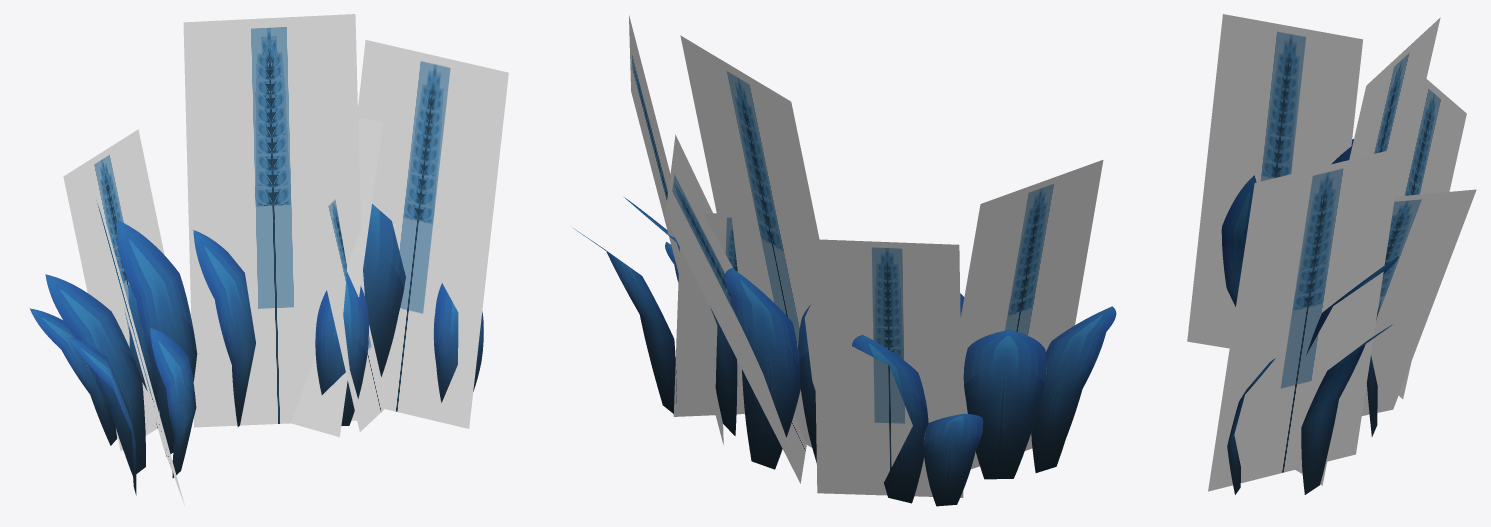
The model's file is Grass3.FBX.
The picture shows the model from 3 angles, left to right: view 1: azimuth 30°, elevation 25°; view 2: azimuth 150°, elevation 25°; view 3: azimuth 270°, elevation 25°; orthographic projection. The views are drawn at different scales.
Visible parts, largest first — view 1: Grass3a, Grass3b; view 2: Grass3a, Grass3b; view 3: Grass3a, Grass3b.
Boxes of the visible parts, x1,y1,x2,y2 form: Grass3a: (63, 14, 508, 505); Grass3b: (29, 204, 483, 495); Grass3a: (629, 15, 1103, 497); Grass3b: (573, 197, 1116, 506); Grass3a: (1187, 14, 1476, 491); Grass3b: (1221, 139, 1398, 494).
Bounding box in the file's own units: 56.84 × 40.79 × 27.69.
